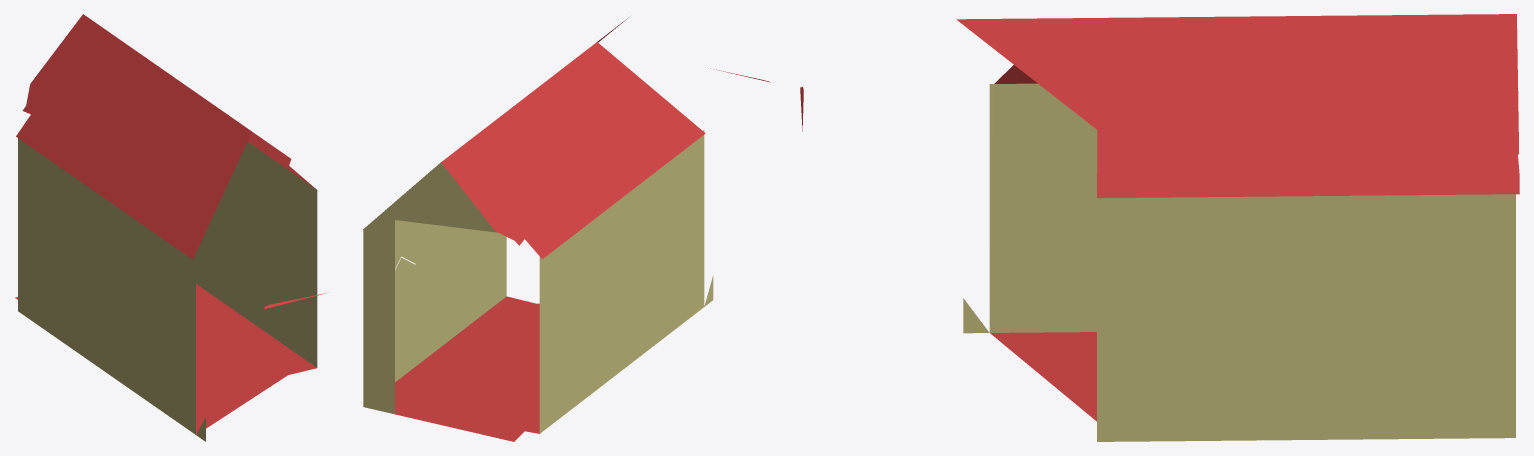
The picture shows the model from 3 angles, left to right: view 1: azimuth 30°, elevation 25°; view 2: azimuth 150°, elevation 25°; view 3: azimuth 270°, elevation 25°; orthographic projection. The views are drawn at different scales.
Size of the model in its own units: 17.95 by 46.77 by 26.57.
